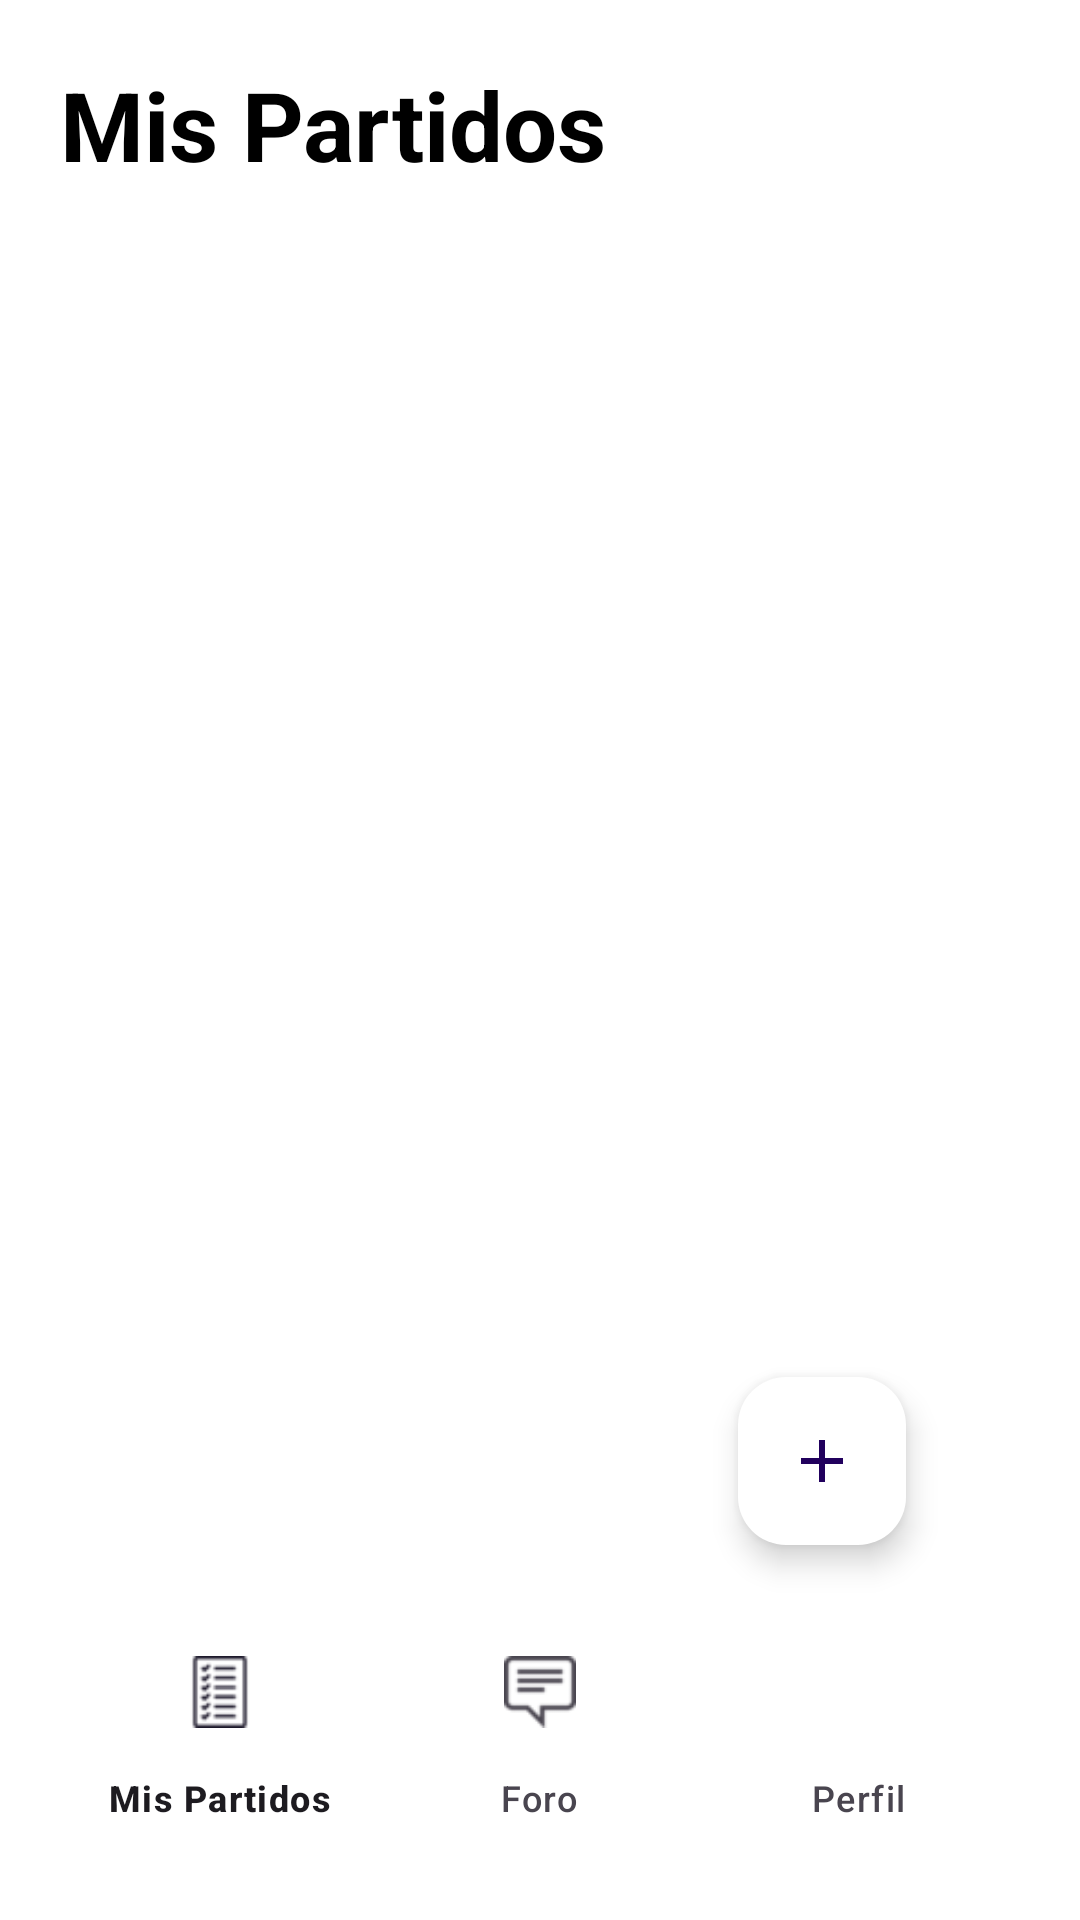

Where to tap for icons on this 1080px×1920px app screen, as [x,y]:
add: [824,1492]
